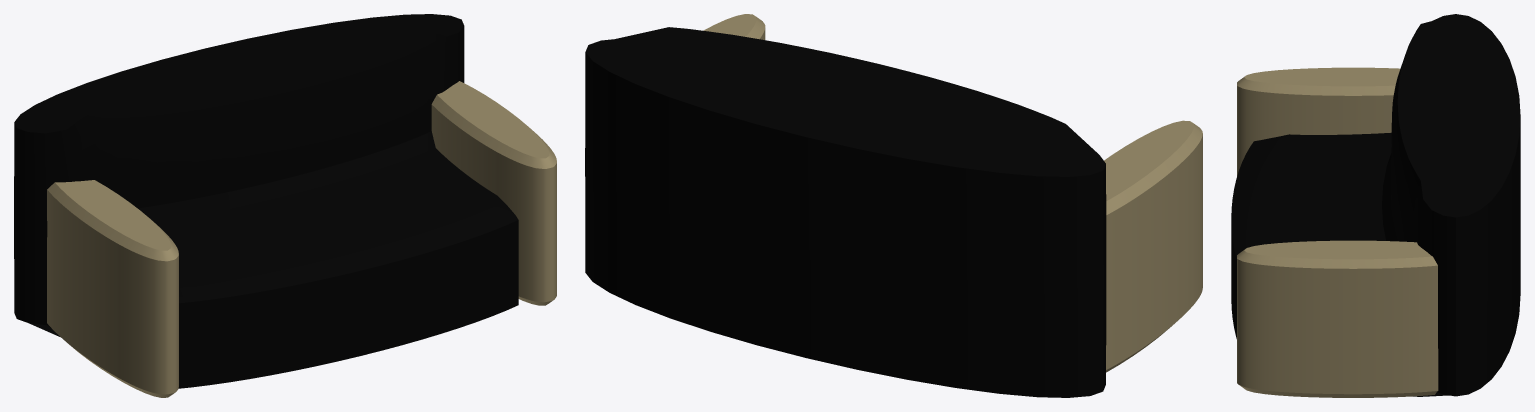
3 views of the same model, side by side, from view 1: azimuth 30°, elevation 25°; view 2: azimuth 150°, elevation 25°; view 3: azimuth 270°, elevation 25° (orthographic). The views are drawn at different scales.
Visible parts, largest first — view 1: Cylinder.002, Cylinder.001, Cylinder; view 2: Cylinder.002, Cylinder.001, Cylinder; view 3: Cylinder.002, Cylinder, Cylinder.001.
Boxes of the visible parts, x1,y1,x2,y2 form: Cylinder.002: (14, 14, 518, 388); Cylinder.001: (47, 180, 178, 397); Cylinder: (431, 81, 556, 305); Cylinder.002: (585, 27, 1106, 397); Cylinder.001: (1104, 120, 1202, 372); Cylinder: (703, 14, 765, 39); Cylinder.002: (1231, 14, 1520, 396); Cylinder: (1237, 240, 1438, 397); Cylinder.001: (1237, 67, 1400, 176).
Size of the model in its own units: 2.5 by 1.2 by 1.5.
